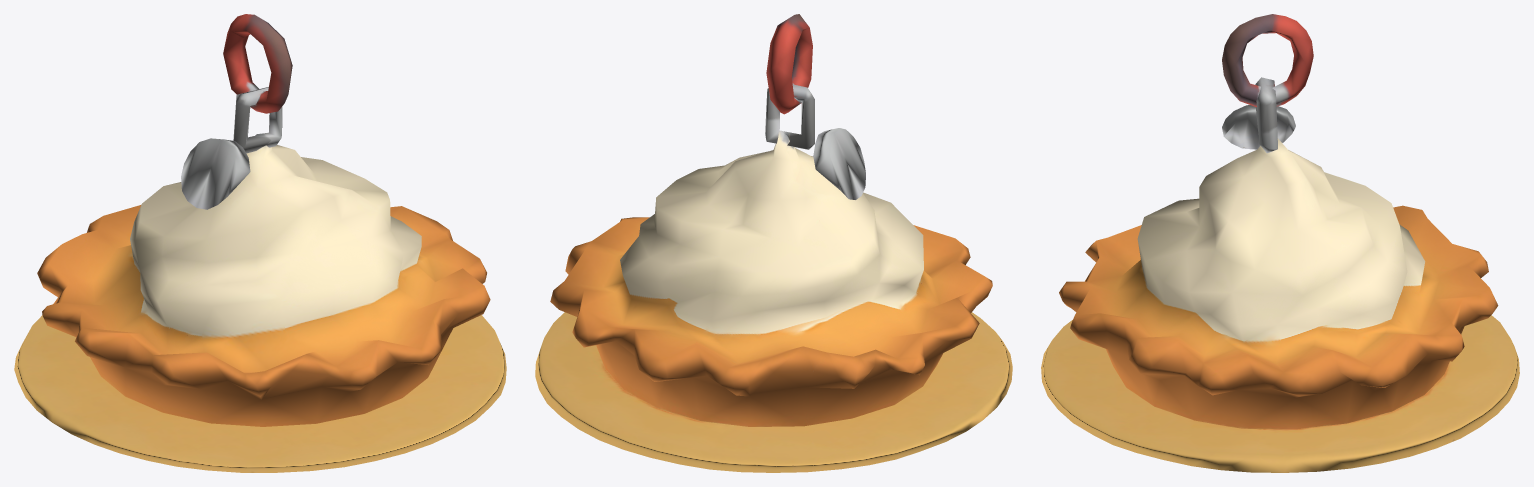
The model's file is charm_torta.glb.
3 renders of one model, left to right at view 1: azimuth 30°, elevation 25°; view 2: azimuth 150°, elevation 25°; view 3: azimuth 270°, elevation 25°, orthographic. The views are drawn at different scales.
Parts seen in each view (by area): view 1: tripo_node_45b42c28-1c42-4086-9baa-6a7e8548a5e9; view 2: tripo_node_45b42c28-1c42-4086-9baa-6a7e8548a5e9; view 3: tripo_node_45b42c28-1c42-4086-9baa-6a7e8548a5e9.
Part boxes in pixels (x1,y1,x2,y2): tripo_node_45b42c28-1c42-4086-9baa-6a7e8548a5e9: [14, 14, 506, 472]; tripo_node_45b42c28-1c42-4086-9baa-6a7e8548a5e9: [535, 14, 1012, 472]; tripo_node_45b42c28-1c42-4086-9baa-6a7e8548a5e9: [1041, 14, 1519, 472].
Bounding box in the file's own units: 0.998 × 0.8105 × 0.998.
1 material, 1 textured.
